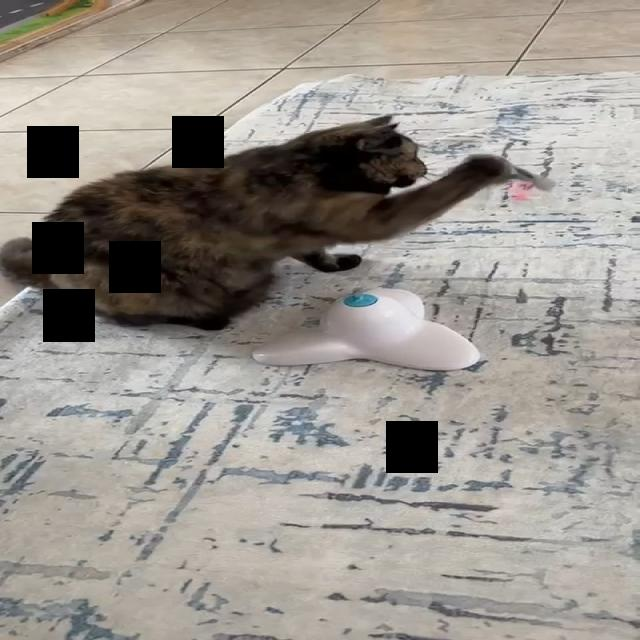authorized: (0, 114, 528, 332)
